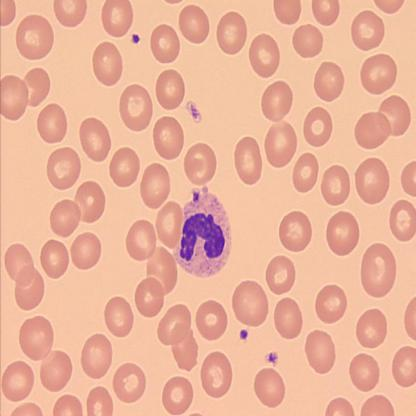Segmented neutrophil: (172, 183, 233, 283)
